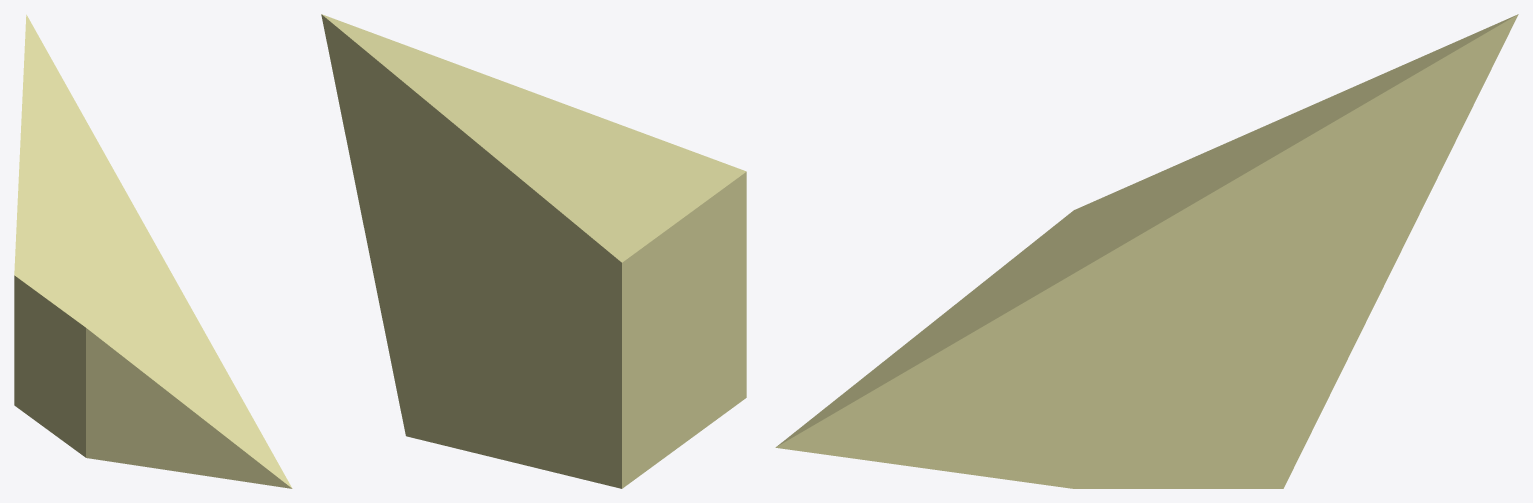
The model's file is icone4.glb.
3 renders of one model, left to right at view 1: azimuth 30°, elevation 25°; view 2: azimuth 150°, elevation 25°; view 3: azimuth 270°, elevation 25°, orthographic. The views are drawn at different scales.
Visible parts, largest first — view 1: Cube; view 2: Cube; view 3: Cube.
Part boxes in pixels (x1,y1,x2,y2): Cube: [14, 14, 292, 488]; Cube: [321, 14, 746, 488]; Cube: [775, 14, 1518, 488].
Bounding box in the file's own units: 2 × 4.76 × 7.09.
